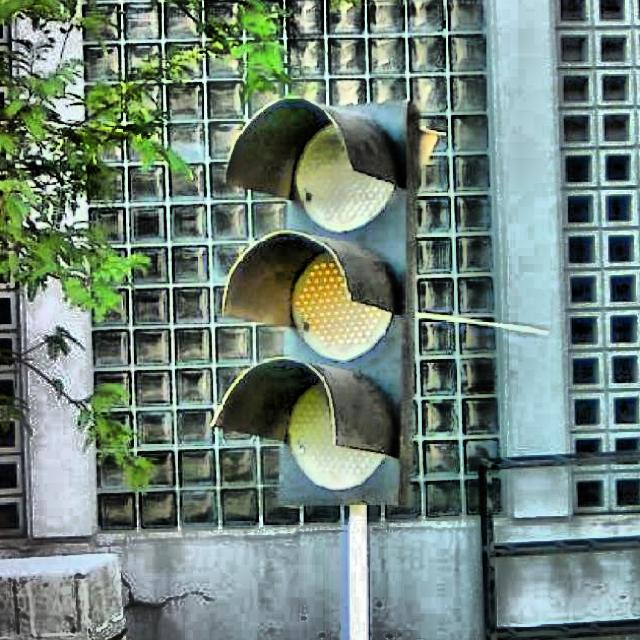yellow: (217, 101, 414, 505)
